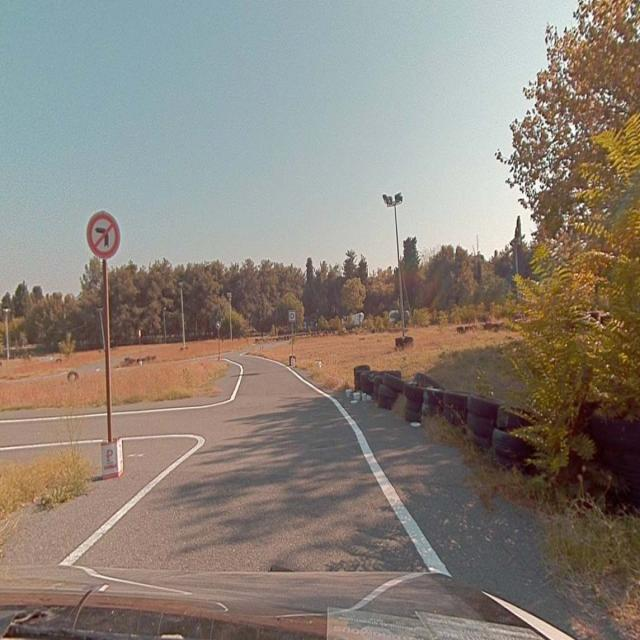durak: (287, 310, 296, 322)
soladonulmez: (88, 212, 120, 256)
